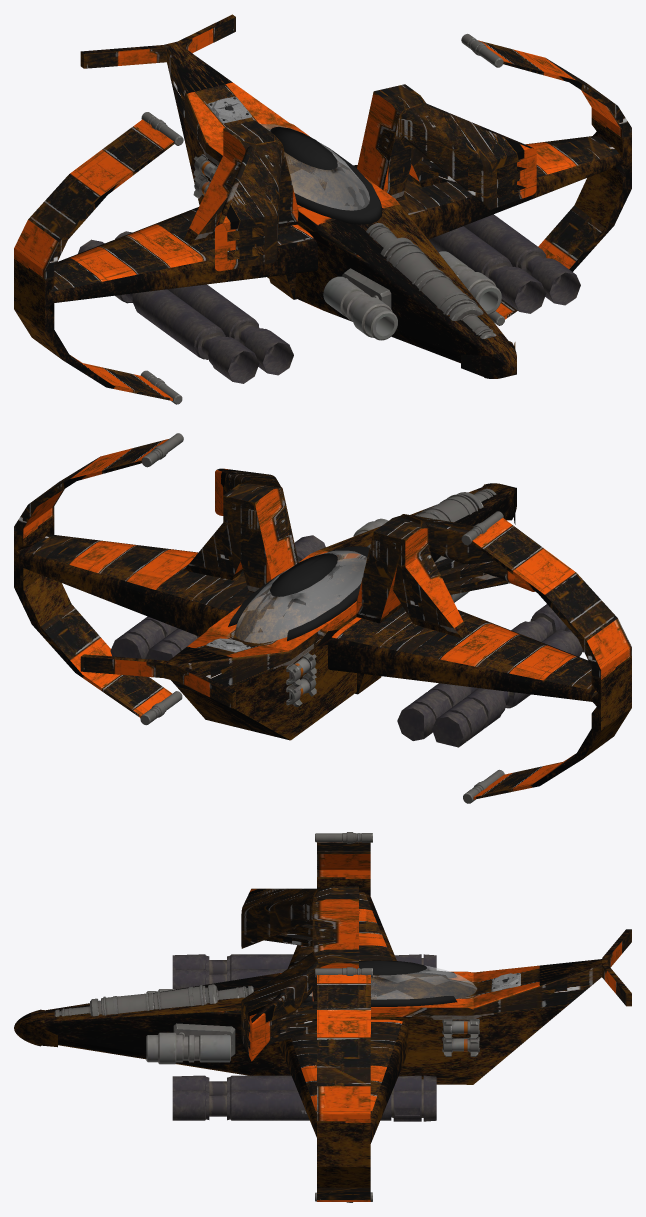
Rendered from mining-light.glb.
3 views of the same model, one above another, from view 1: azimuth 30°, elevation 25°; view 2: azimuth 150°, elevation 25°; view 3: azimuth 270°, elevation 25° (orthographic). The views are drawn at different scales.
Visible parts, largest first — view 1: Body_Baked_Baked_Body_Baked_Baked_0, greeble.002_Material.004_0, GT_SG_Cylindrical_16.002_GT_SG_Cylindrical_0, Cockpit_Material_0, Cockpit_Beer Glass_0, GT_SG_Blocks_26_GT_SG_Blocks_0, Greeble_CC_ConcreteSmooth_0; view 2: Body_Baked_Baked_Body_Baked_Baked_0, greeble.002_Material.004_0, Cockpit_Beer Glass_0, GT_SG_Cylindrical_16.002_GT_SG_Cylindrical_0, Cockpit_Material_0; view 3: Body_Baked_Baked_Body_Baked_Baked_0, greeble.002_Material.004_0, GT_SG_Cylindrical_16.002_GT_SG_Cylindrical_0, Cockpit_Beer Glass_0, Cockpit_Material_0, GT_SG_Blocks_26_GT_SG_Blocks_0.
Part boxes in pixels (x1=…): Body_Baked_Baked_Body_Baked_Baked_0: x1=14, y1=14, x2=631, y2=400; greeble.002_Material.004_0: x1=78, y1=214, x2=580, y2=383; GT_SG_Cylindrical_16.002_GT_SG_Cylindrical_0: x1=140, y1=33, x2=504, y2=404; Cockpit_Material_0: x1=270, y1=127, x2=382, y2=224; Cockpit_Beer Glass_0: x1=260, y1=124, x2=369, y2=210; GT_SG_Blocks_26_GT_SG_Blocks_0: x1=342, y1=267, x2=459, y2=308; Greeble_CC_ConcreteSmooth_0: x1=207, y1=96, x2=251, y2=123; Body_Baked_Baked_Body_Baked_Baked_0: x1=14, y1=439, x2=631, y2=799; greeble.002_Material.004_0: x1=110, y1=535, x2=583, y2=747; Cockpit_Beer Glass_0: x1=235, y1=550, x2=366, y2=643; GT_SG_Cylindrical_16.002_GT_SG_Cylindrical_0: x1=140, y1=433, x2=504, y2=803; Cockpit_Material_0: x1=228, y1=546, x2=369, y2=641; Body_Baked_Baked_Body_Baked_Baked_0: x1=14, y1=842, x2=631, y2=1201; greeble.002_Material.004_0: x1=172, y1=954, x2=436, y2=1121; GT_SG_Cylindrical_16.002_GT_SG_Cylindrical_0: x1=54, y1=832, x2=479, y2=1202; Cockpit_Beer Glass_0: x1=309, y1=965, x2=476, y2=999; Cockpit_Material_0: x1=267, y1=960, x2=457, y2=1006; GT_SG_Blocks_26_GT_SG_Blocks_0: x1=173, y1=1023, x2=235, y2=1056.
Size of the model in its own units: 13.79 by 6.07 by 14.52.
9 materials, 5 textured.
